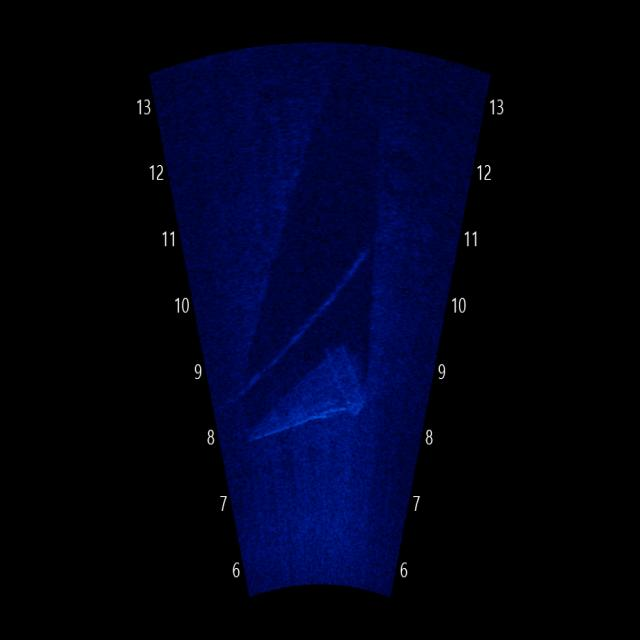circle: (376, 144, 422, 203)
triangle: (248, 326, 371, 447)
